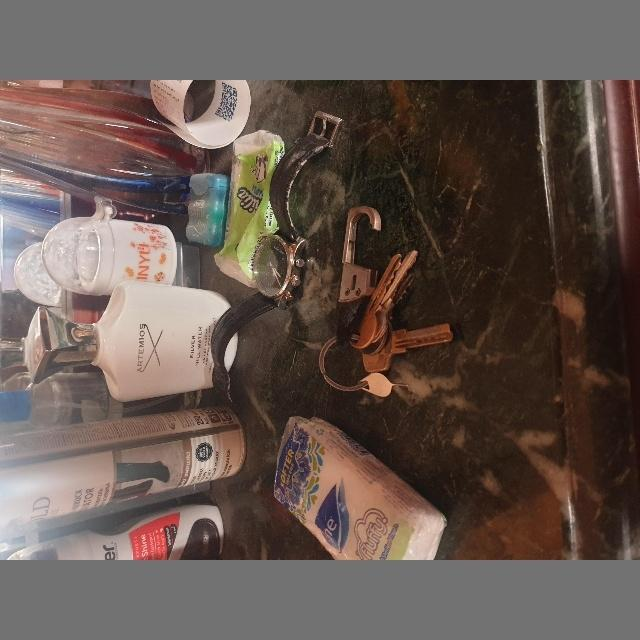Keys: (198, 317, 480, 423)
